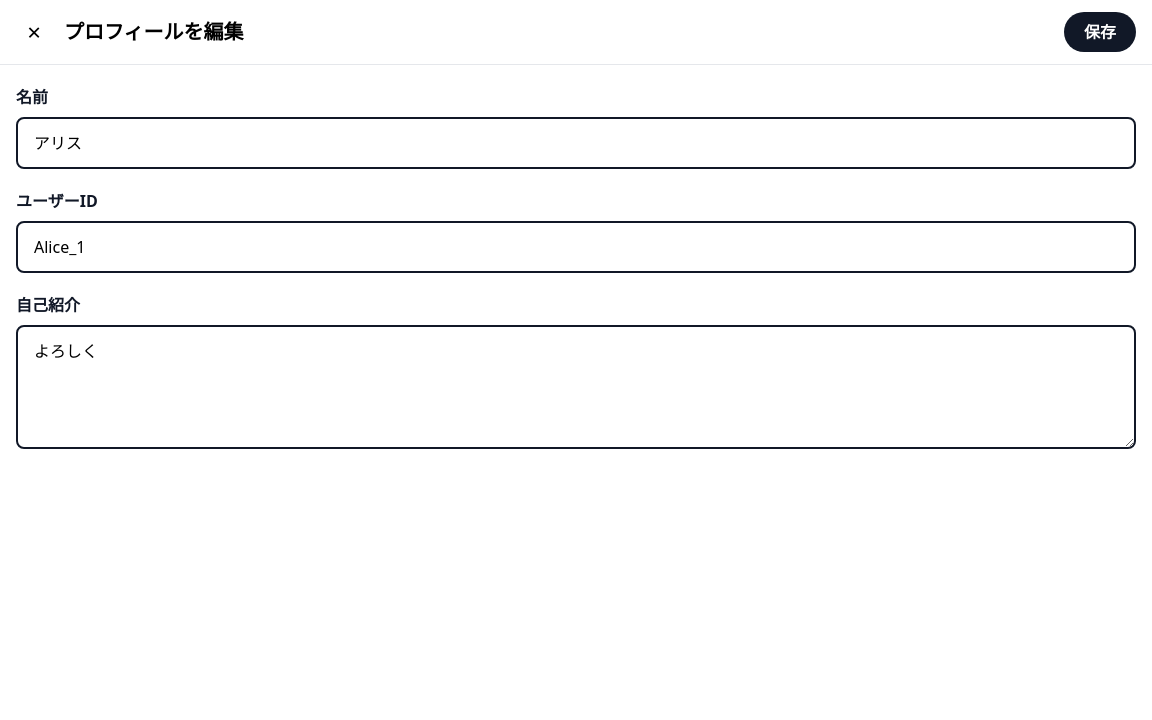
it: ProfileEditForm › 入力違反は欄ごとに表示し、送信した入力値を保持する
Click the button "保存".
click(1100, 32)  # box [1064,12,1136,52]
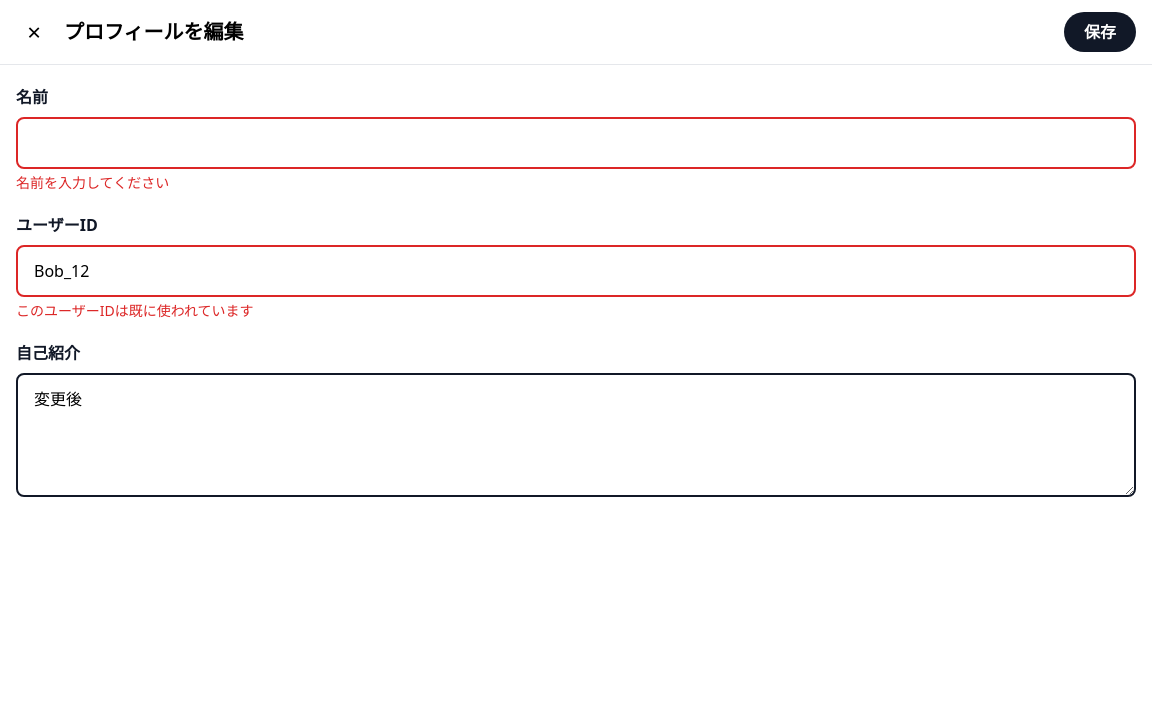
Result: the list "このユーザーIDは既に使われています" is shown at [16,301,254,320]
Result: the field labelled "ユーザーID" holds "Bob_12" at [16,245,1136,297]
Result: the text box labelled "自己紹介" holds "変更後" at [16,373,1136,497]
